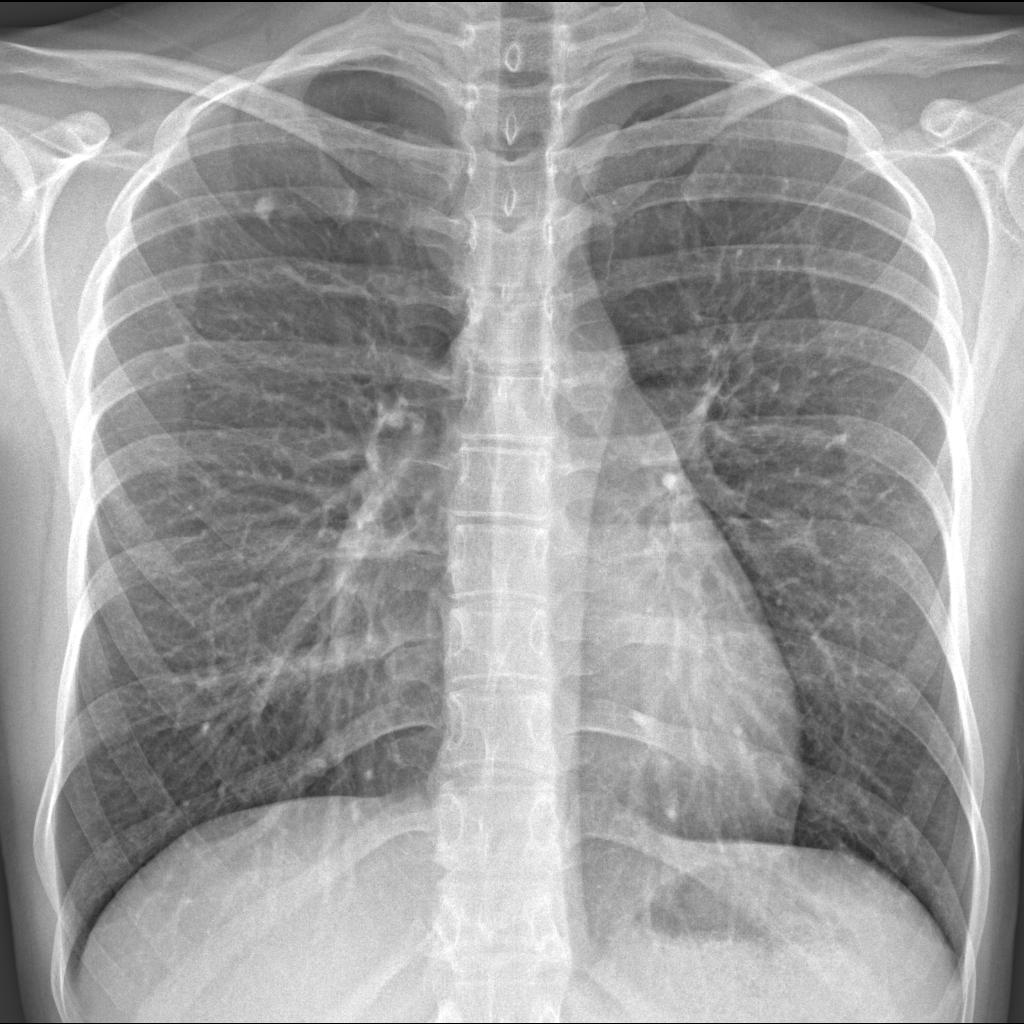Nodule: (245, 190, 288, 224)
